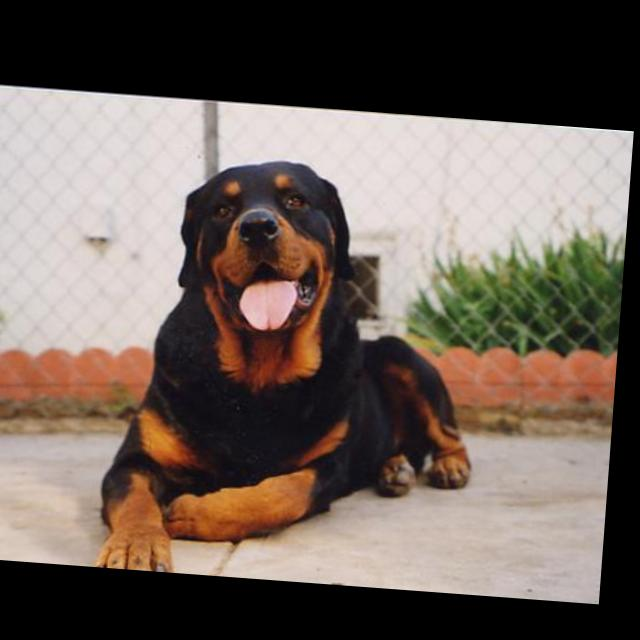rottweiler: (102, 146, 496, 587)
